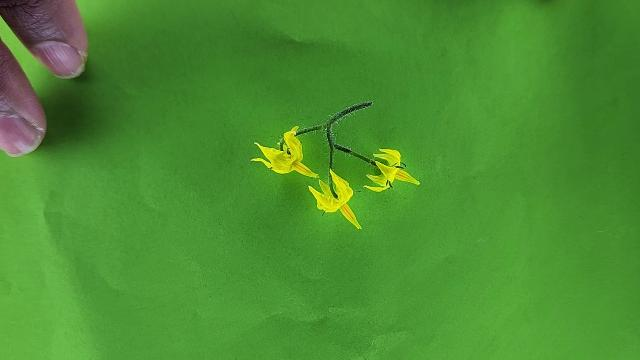Anthesis: (250, 126, 318, 180), (307, 167, 362, 229), (360, 147, 421, 192)
